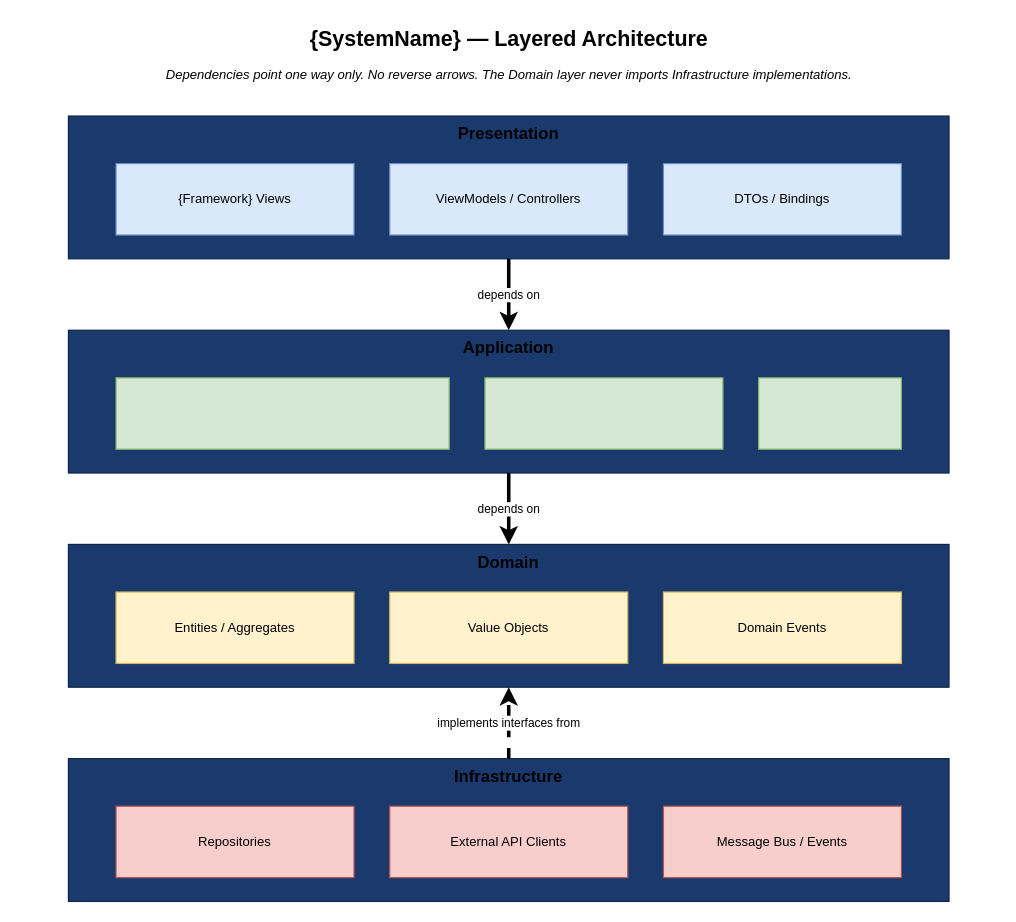
This 1016x922 diagram has some shape labels left out. Here are the shapes that lost their labels. From the top down, the centre of each, then its label:
[282,413]: Use Cases / Application Services
[603,413]: Orchestration / Workflow
[829,413]: Outbound Ports
